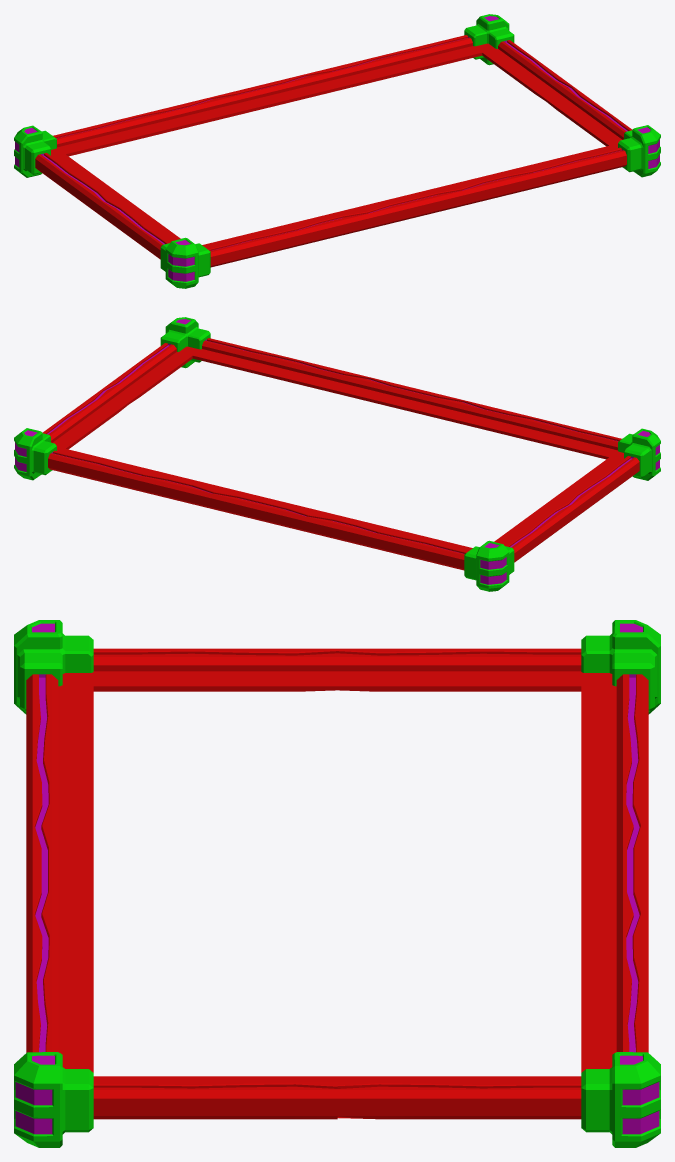
Rendered from MeTV_V2.FBX.
3 renders of one model, top to bottom at view 1: azimuth 30°, elevation 25°; view 2: azimuth 150°, elevation 25°; view 3: azimuth 270°, elevation 25°, orthographic. The views are drawn at different scales.
Parts seen in each view (by area): view 1: Box004; view 2: Box004; view 3: Box004.
Part boxes in pixels (x1,y1,x2,y2): Box004: (14, 14, 660, 288); Box004: (14, 317, 660, 591); Box004: (14, 620, 660, 1147).
Size of the model in its own units: 3482 by 2082 by 291.
